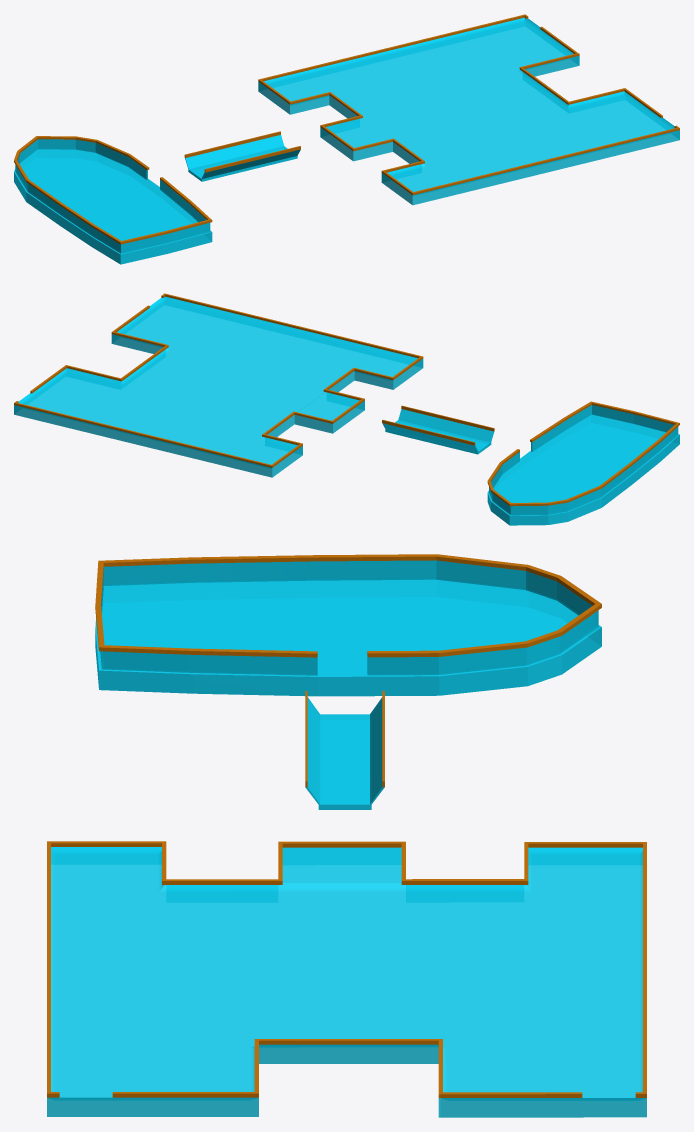
The model's file is Level_01.fbx.
The picture shows the model from 3 angles, top to bottom: view 1: azimuth 30°, elevation 25°; view 2: azimuth 150°, elevation 25°; view 3: azimuth 270°, elevation 25°; orthographic projection. The views are drawn at different scales.
Parts seen in each view (by area): view 1: base0_1, base, border2, glass, Track, border; view 2: base0_1, base, border2, glass, Track, border; view 3: base0_1, base, glass, border2, Track, border.
Boxes of the visible parts, x1,y1,x2,y2 form: base0_1: (258, 17, 679, 205); base: (14, 149, 212, 264); border2: (258, 14, 679, 195); glass: (15, 139, 210, 253); Track: (184, 131, 300, 181); border: (14, 136, 212, 244); base0_1: (14, 296, 423, 477); base: (487, 414, 679, 525); border2: (14, 293, 423, 467); glass: (489, 405, 678, 515); Track: (382, 405, 494, 454); border: (487, 401, 679, 506); base0_1: (47, 847, 646, 1117); base: (95, 579, 601, 696); glass: (100, 560, 598, 675); border2: (47, 841, 646, 1098); Track: (305, 691, 384, 809); border: (95, 554, 601, 657).
Size of the model in its own units: 5763 by 220 by 2797.
